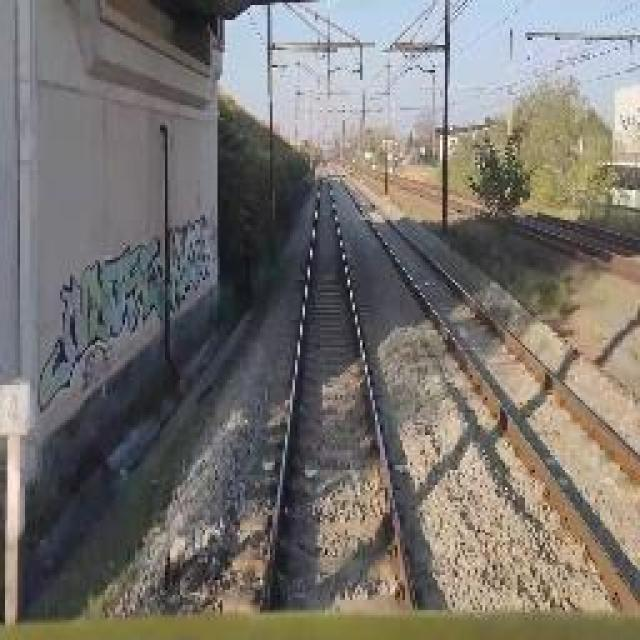rail: (329, 167, 640, 615), (216, 159, 463, 625)
